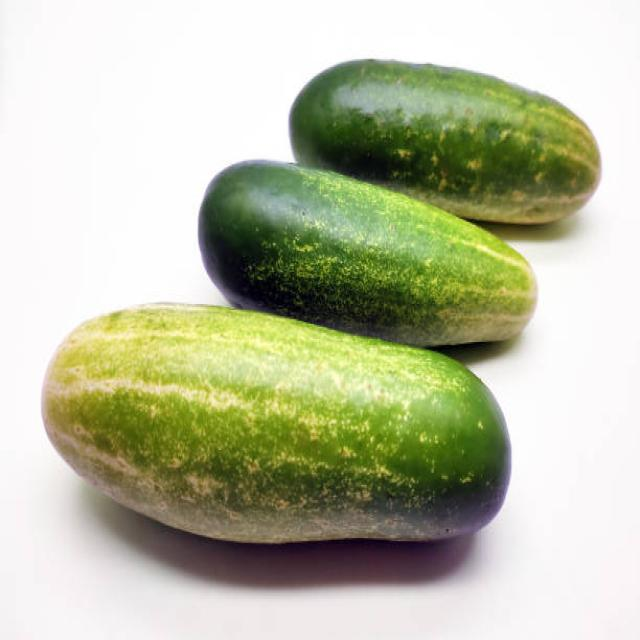cucumber: (39, 305, 511, 547), (196, 155, 537, 345), (288, 55, 602, 226)
